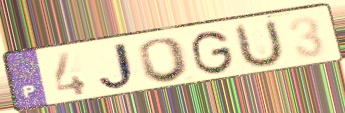3: (288, 14, 327, 60)
4: (53, 50, 88, 98)
G: (190, 29, 236, 77)
J: (97, 40, 142, 94)
O: (137, 36, 193, 85)
U: (233, 18, 287, 71)
